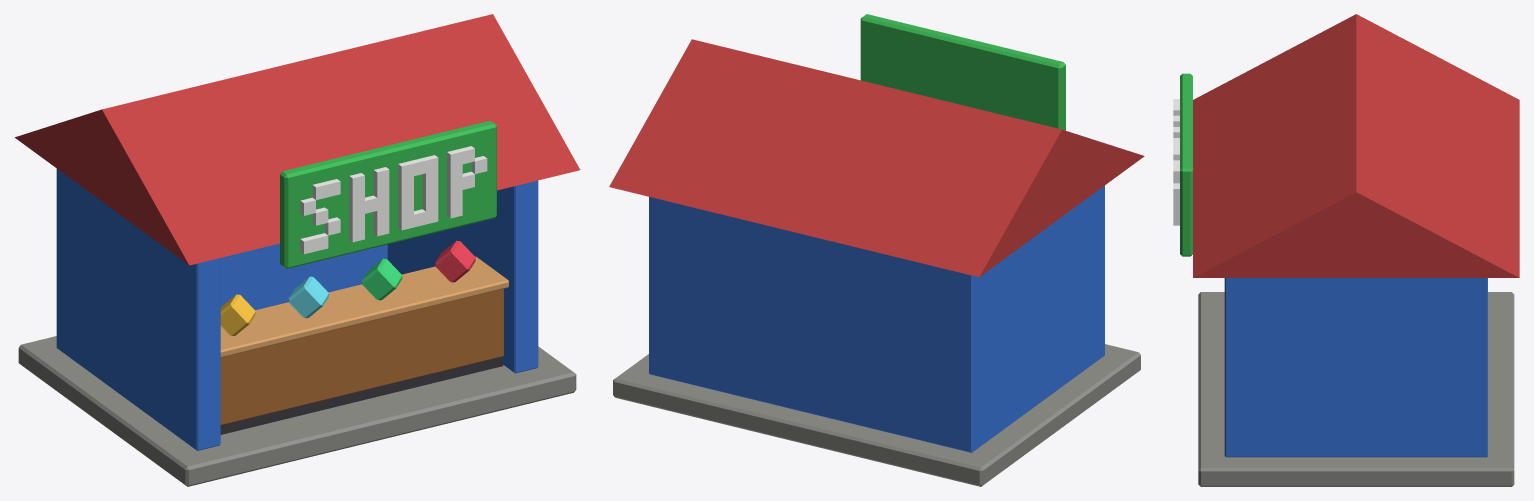
Rendered from ShopStand.fbx.
The picture shows the model from 3 angles, left to right: view 1: azimuth 30°, elevation 25°; view 2: azimuth 150°, elevation 25°; view 3: azimuth 270°, elevation 25°; orthographic projection. The views are drawn at different scales.
Visible parts, largest first — view 1: ShopStand; view 2: ShopStand; view 3: ShopStand.
Boxes of the visible parts, left/top/right/bottom form: ShopStand: left=14, top=14, right=580, bottom=486; ShopStand: left=609, top=14, right=1144, bottom=486; ShopStand: left=1173, top=14, right=1519, bottom=486.
Bounding box in the file's own units: 16 × 12.4 × 13.15.
1 material, 1 textured.
